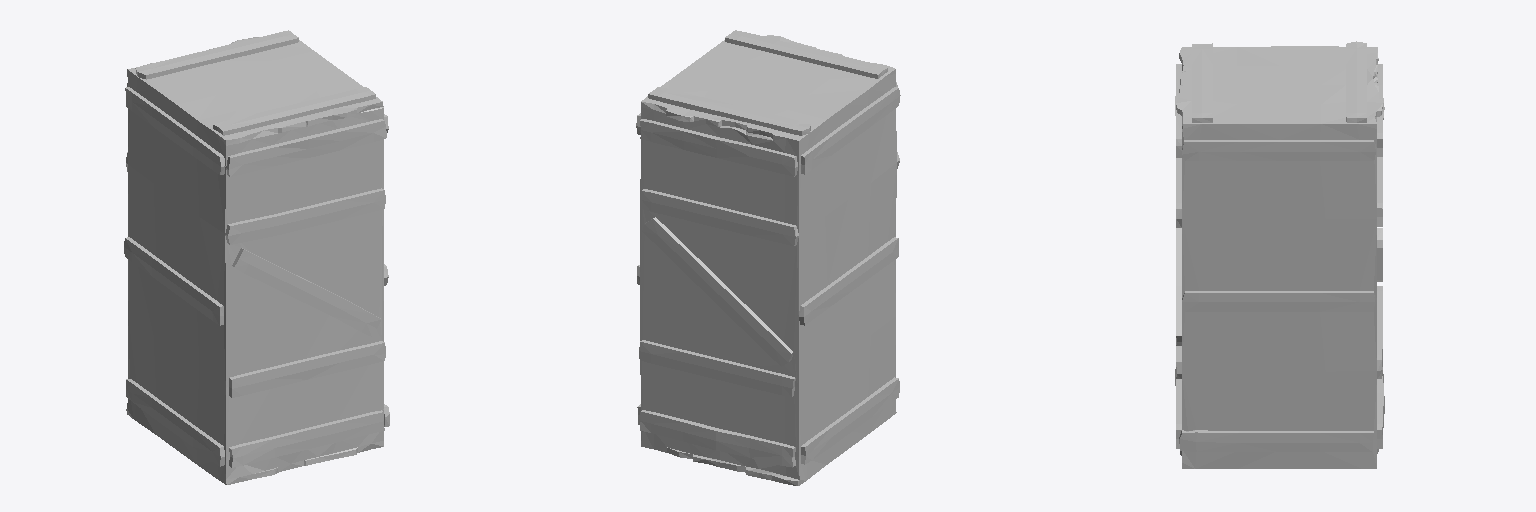
Rendered from big_box.obj.
The picture shows the model from 3 angles: view 1: azimuth 30°, elevation 25°; view 2: azimuth 150°, elevation 25°; view 3: azimuth 270°, elevation 25°; orthographic projection.
Parts seen in each view (by area): view 1: box_Mesh.005; view 2: box_Mesh.005; view 3: box_Mesh.005.
Boxes of the visible parts, <box> form: box_Mesh.005: <box>124,30,389,484</box>; box_Mesh.005: <box>636,30,900,485</box>; box_Mesh.005: <box>1175,41,1384,468</box>.
Bounding box in the file's own units: 0.3112 × 0.6206 × 0.3361.